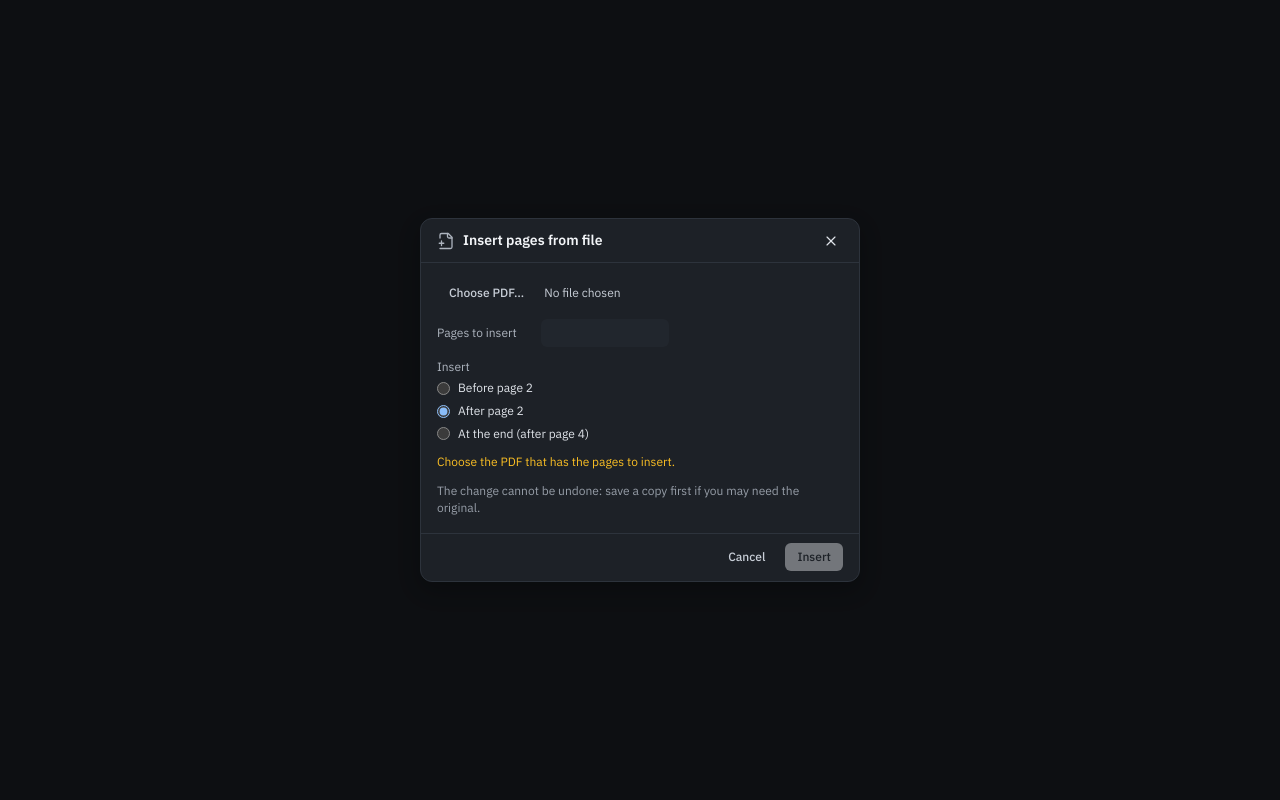
Test case: Insert Pages from File (ADR-0123) › una lista de páginas que no existen lo explica y desactiva Insert
Step 1. Click the button with test id "insert-choose" → click(487, 293), box [437, 279, 536, 307]
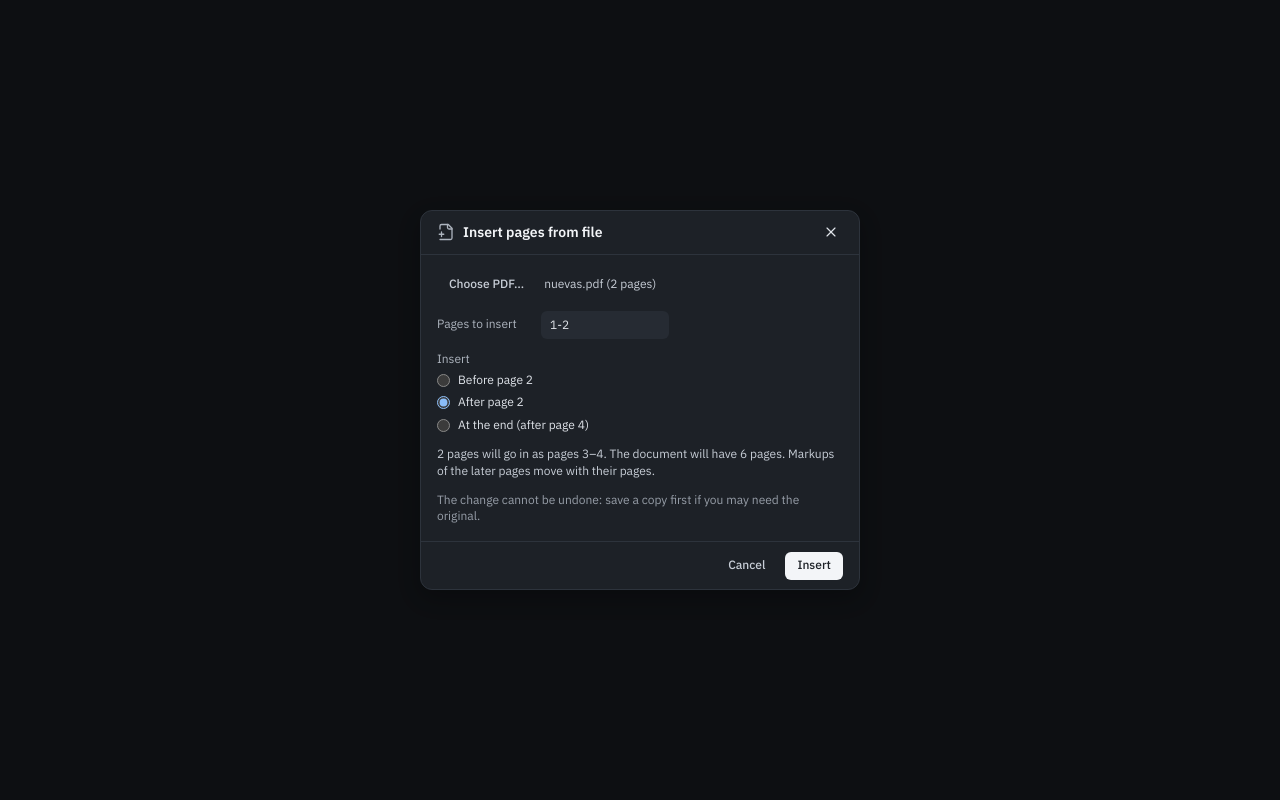
Result: the text with test id "insert-source" shows "nuevas.pdf" at [544, 276, 656, 291]
Step 2. Replace the text in the field with test id "insert-pages" with "5" → (605, 325), box [541, 311, 669, 339]
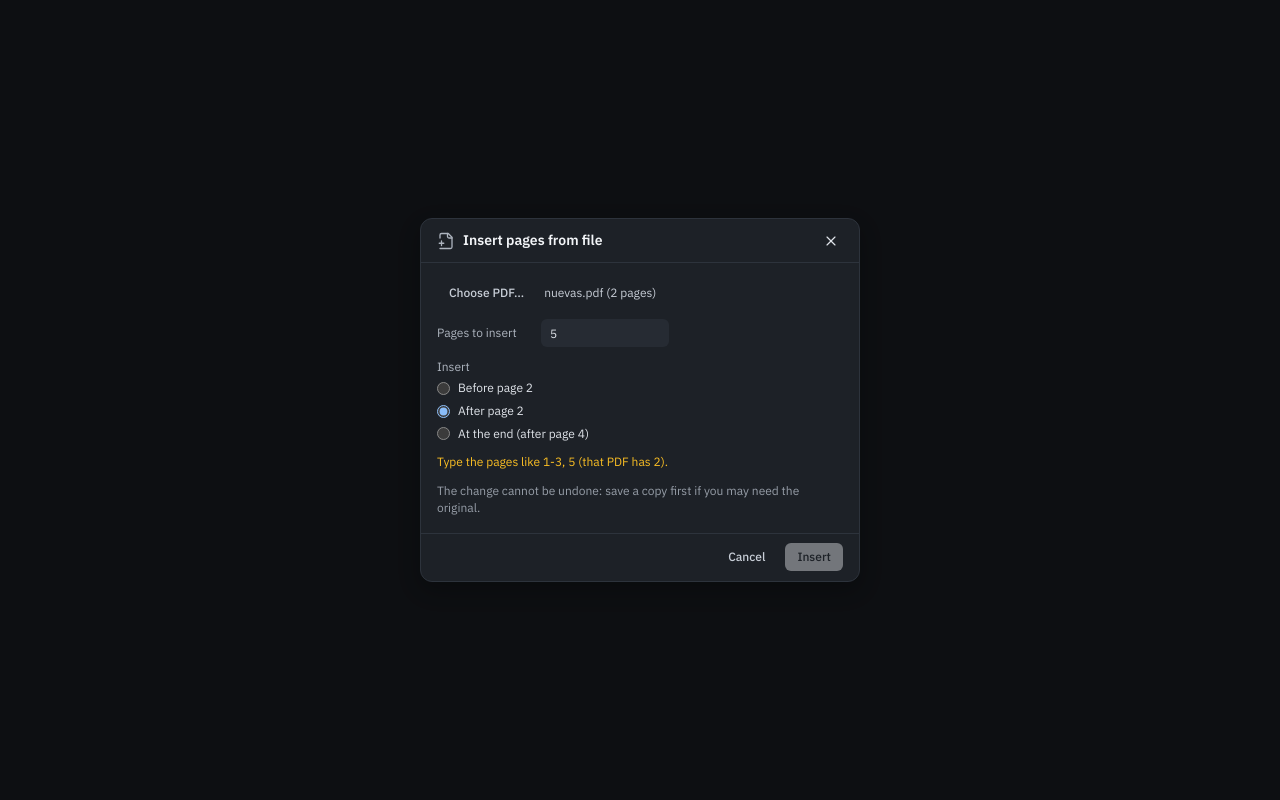
Result: the text with test id "insert-problem" shows "that PDF has 2" at [437, 454, 668, 469]
Result: the button with test id "insert-apply" is disabled at [785, 543, 843, 571]
